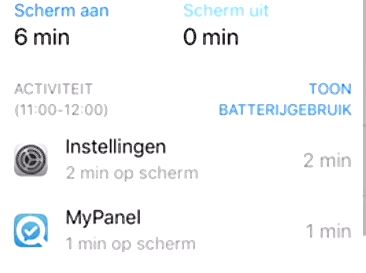activity: (7, 77, 118, 120)
app: (5, 129, 358, 185), (7, 199, 360, 255)
